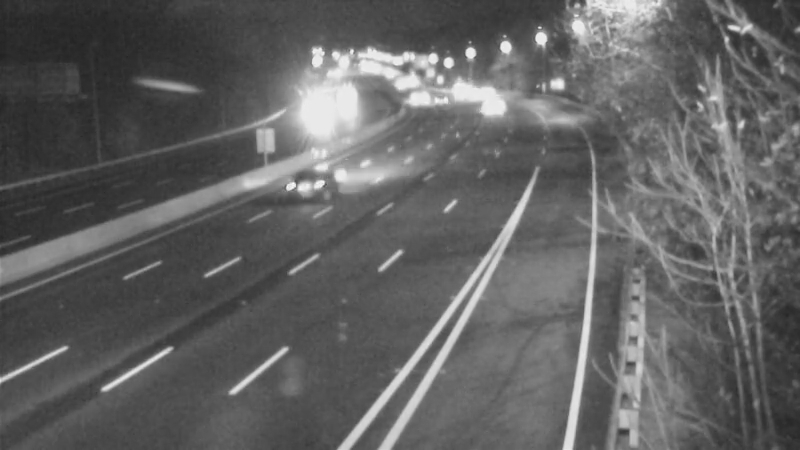vehicle: (281, 136, 361, 216), (388, 71, 438, 121), (417, 77, 467, 127), (465, 83, 515, 133), (288, 90, 338, 140)
